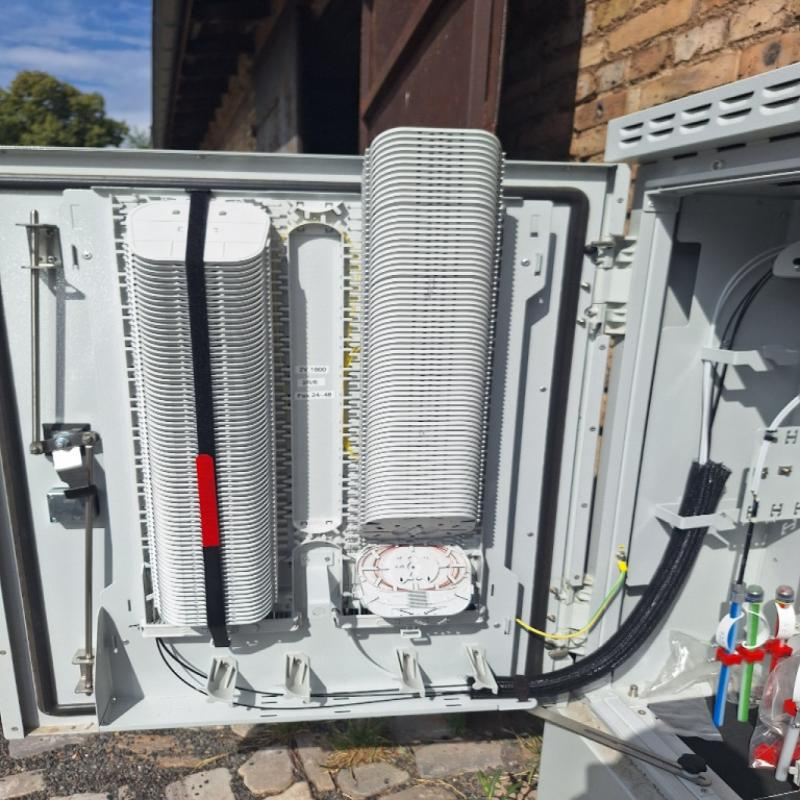NT-Gehause: (0, 67, 798, 800)
Spleiskassetten: (90, 182, 291, 643), (325, 124, 500, 624)
